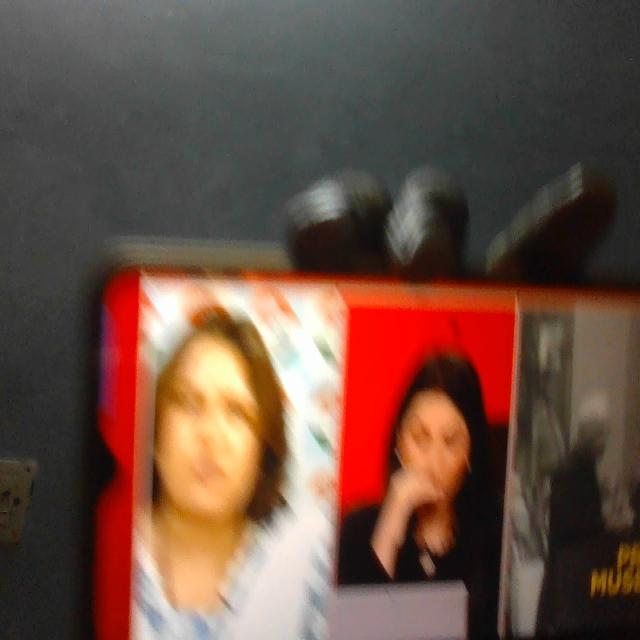fake: (153, 314, 265, 526)
